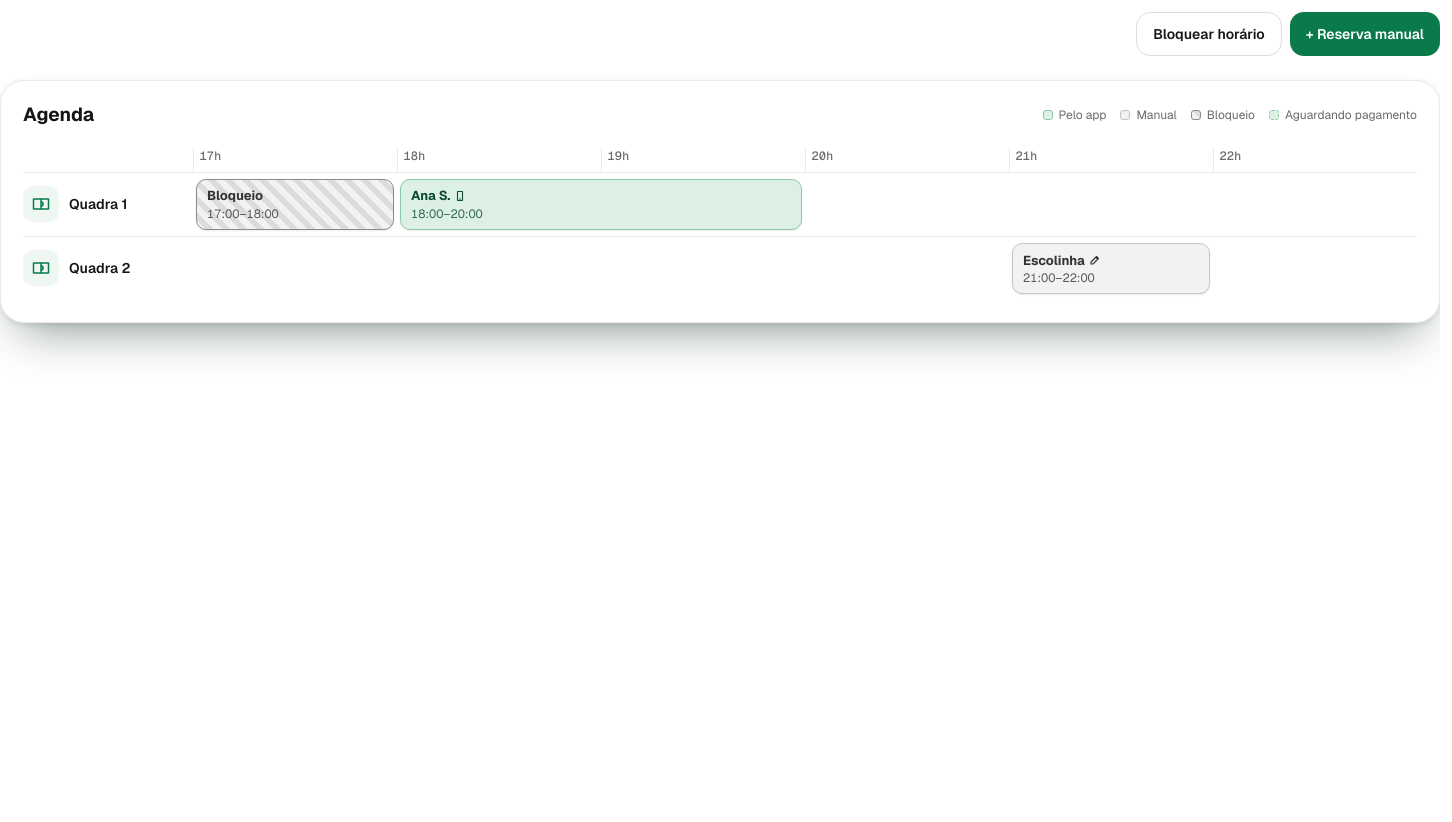
AgendaView (wide) › shows the phone of a manual booking and the API refusal to cancel
Click the button named "Quadra 2, 21:00–22:00, reserva de Escolinha, manual, confirmada" at {"x": 1111, "y": 268}, box [1012,242,1210,294]
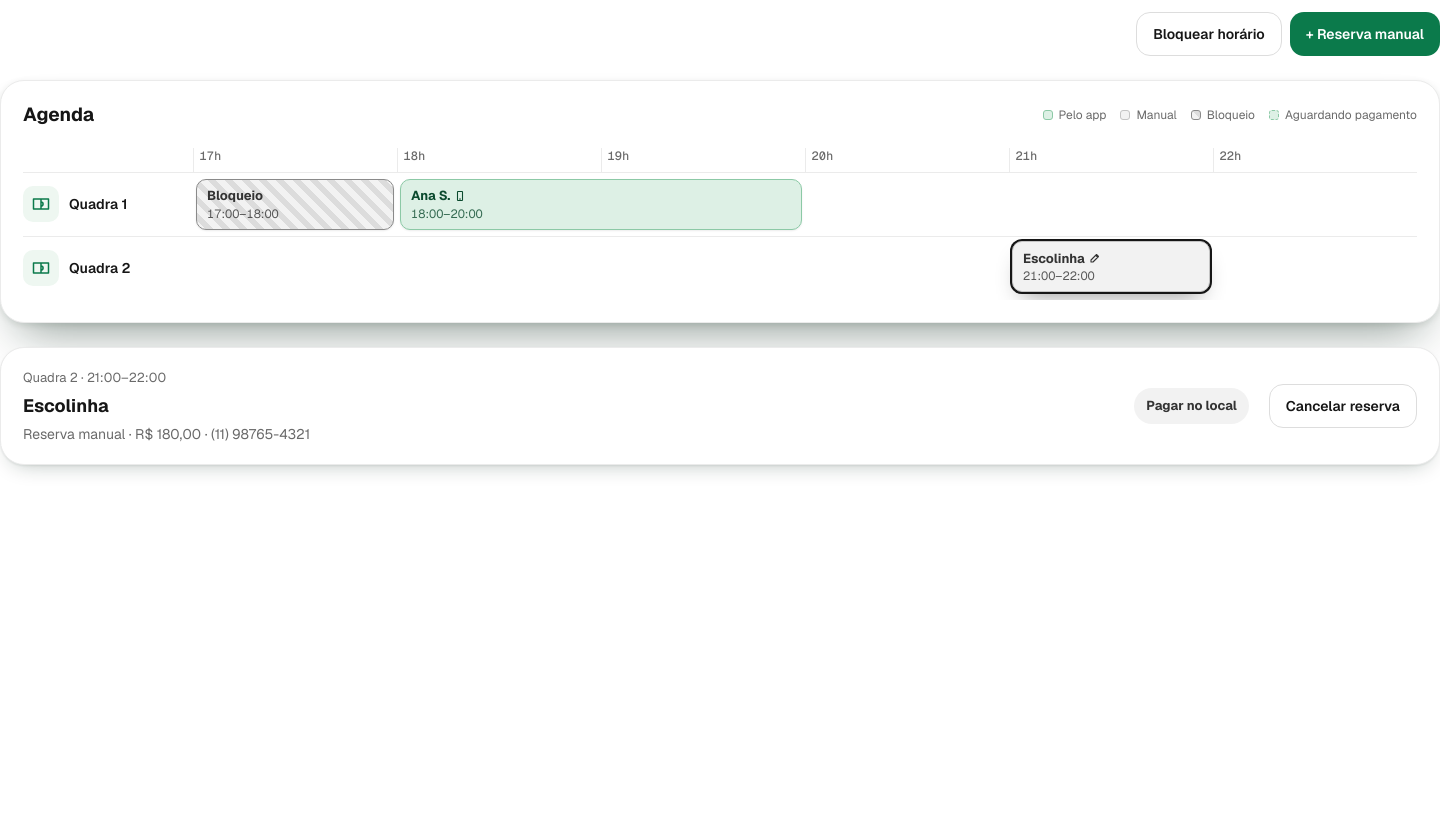
Expected: the text "Reserva manual · R$ 180,00 · (11) 98765-4321" is shown, [23,424,310,442]
Click the button "Cancelar reserva" at {"x": 1343, "y": 406}, box [1269,384,1417,428]
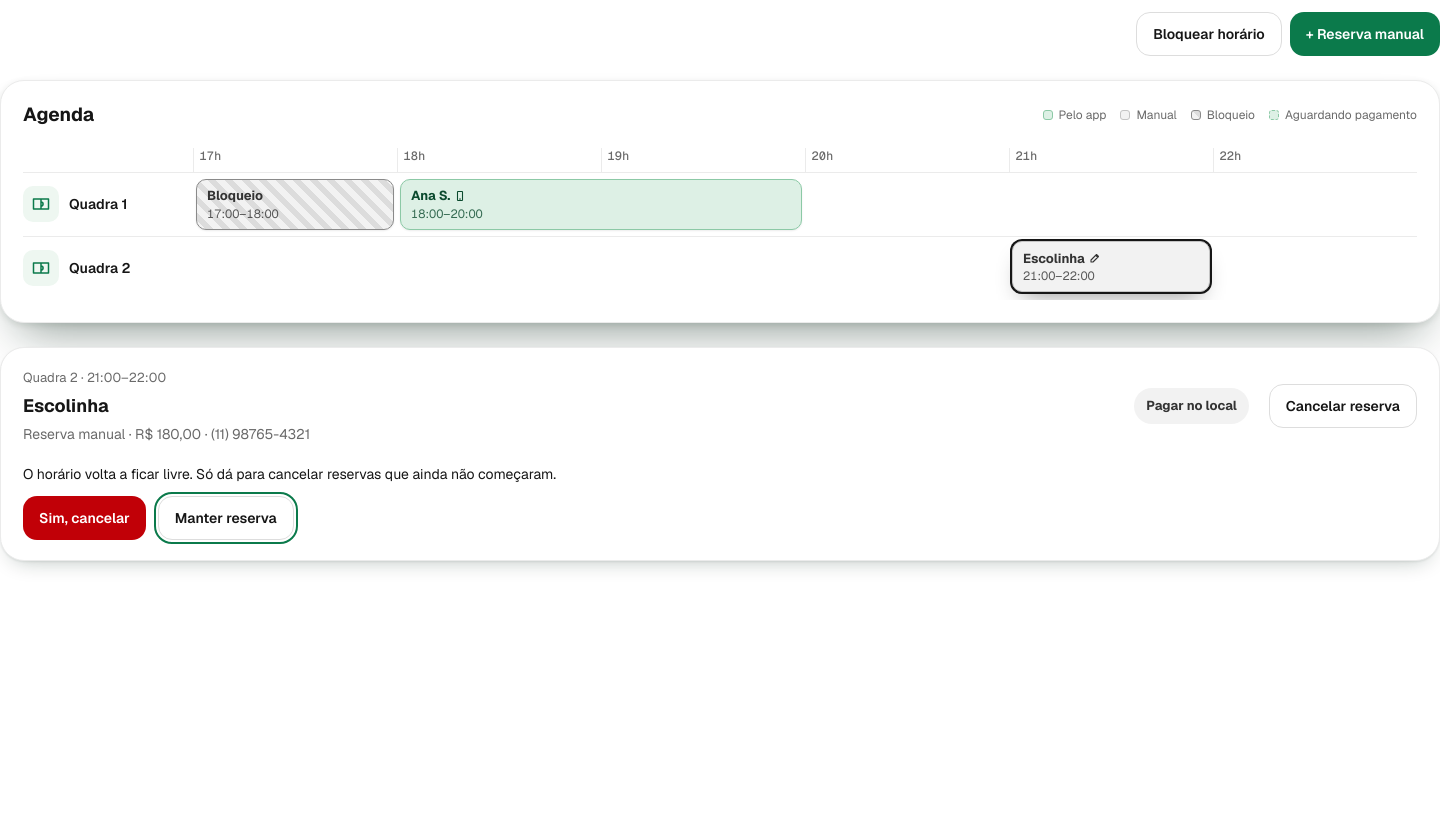
Click the button "Sim, cancelar" at {"x": 84, "y": 518}, box [23,496,146,540]
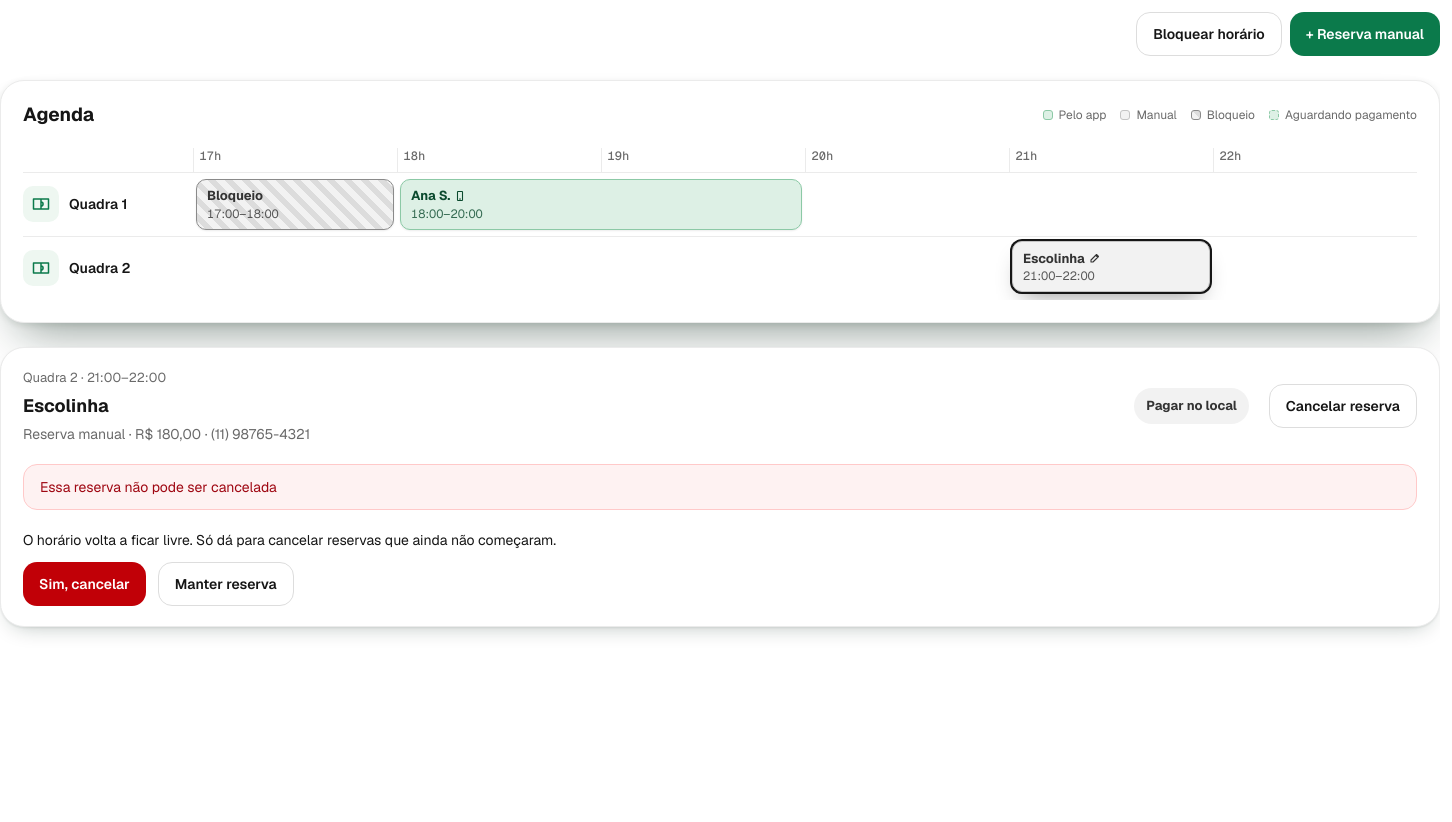
Expected: the message reads "Essa reserva não pode ser cancelada", [40,478,277,496]
